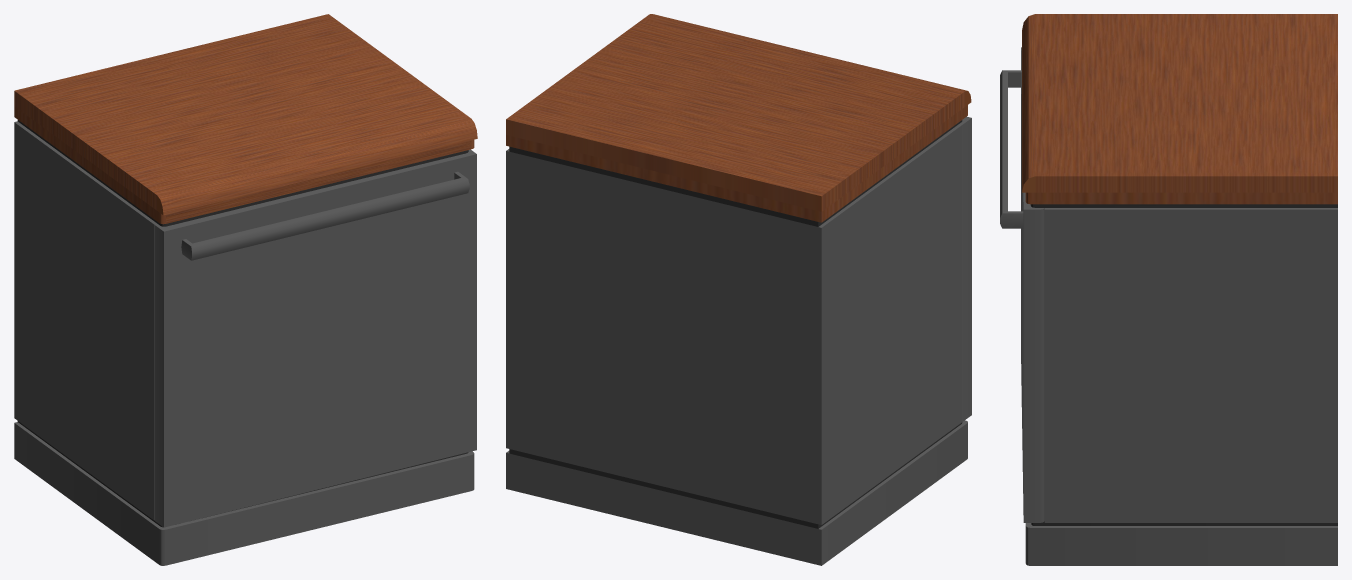
The model's file is Dishwasher.fbx.
3 views of the same model, side by side, from view 1: azimuth 30°, elevation 25°; view 2: azimuth 150°, elevation 25°; view 3: azimuth 270°, elevation 25° (orthographic). The views are drawn at different scales.
Visible parts, largest first — view 1: Spülmaschine, Dishwash Door; view 2: Spülmaschine, Dishwash Door; view 3: Spülmaschine, Dishwash Door.
Boxes of the visible parts, bbox=[...] form: Spülmaschine: bbox=[14, 14, 477, 565]; Dishwash Door: bbox=[154, 149, 476, 527]; Spülmaschine: bbox=[506, 14, 971, 565]; Dishwash Door: bbox=[959, 116, 971, 421]; Spülmaschine: bbox=[1022, 14, 1337, 565]; Dishwash Door: bbox=[1000, 47, 1044, 522].
Size of the model in its own units: 0.8 by 0.8954 by 0.7036.
